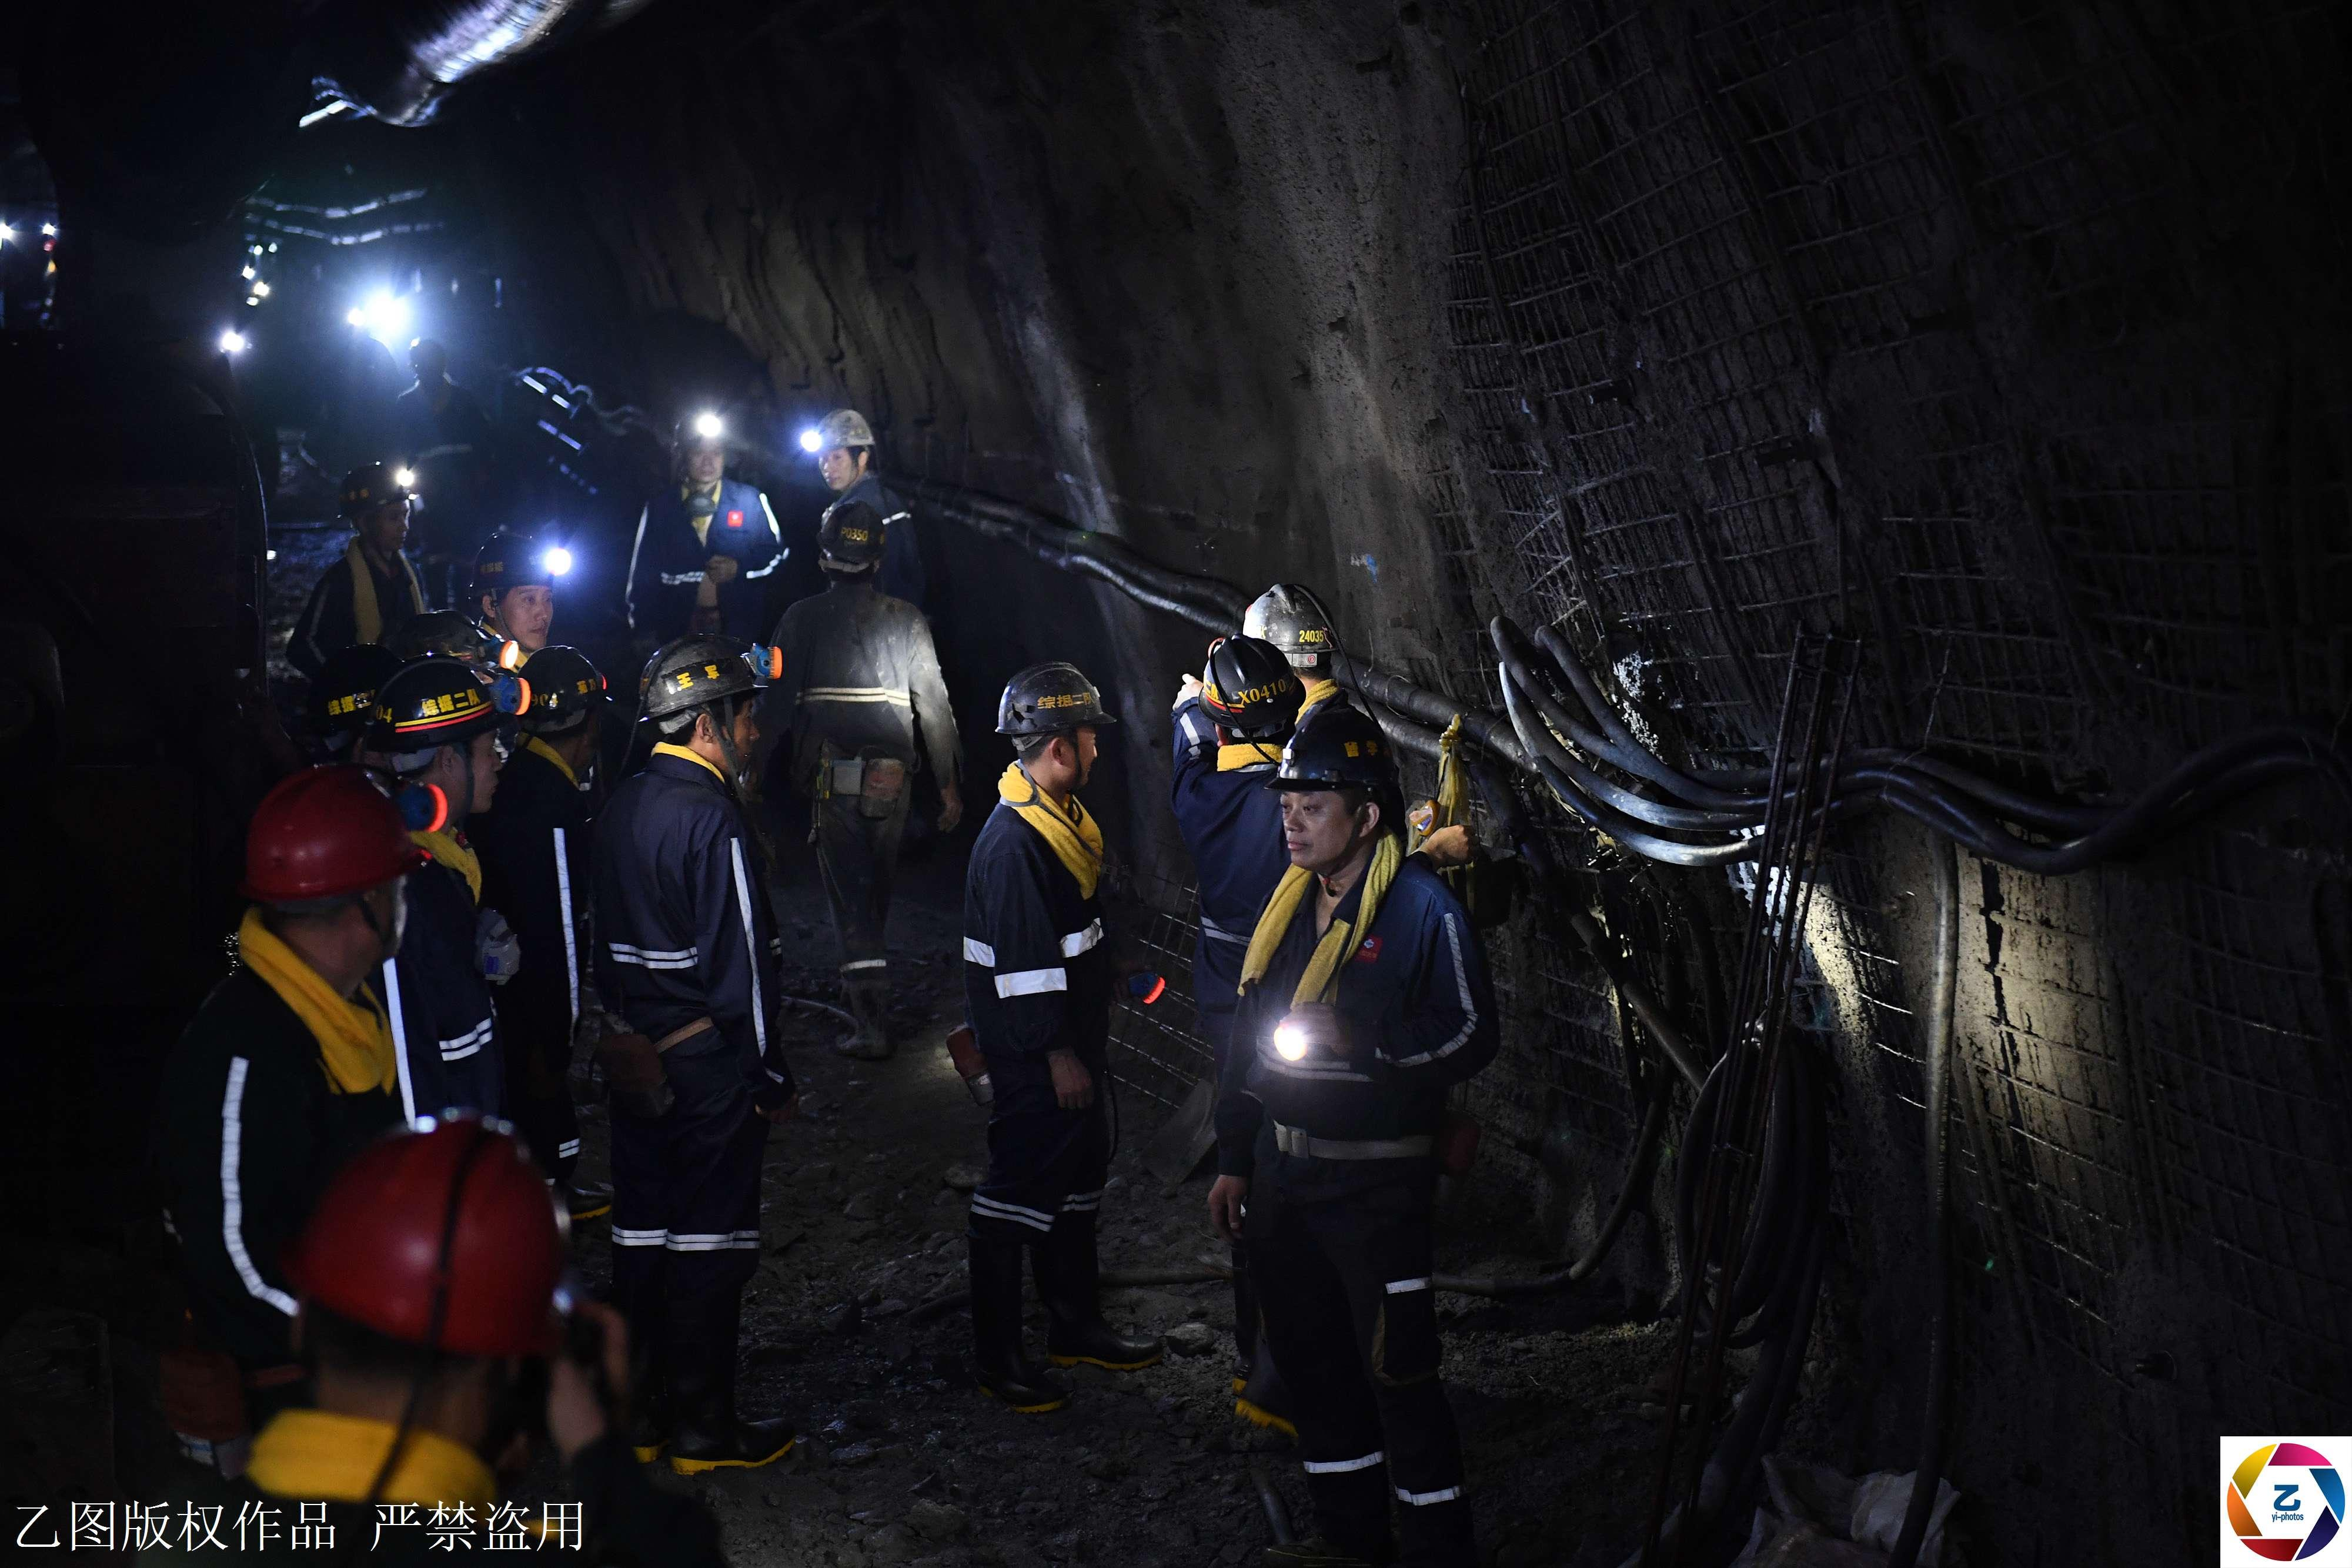helmet: (987, 649, 1130, 807), (1277, 710, 1402, 877), (637, 625, 763, 786), (1186, 625, 1298, 763)
